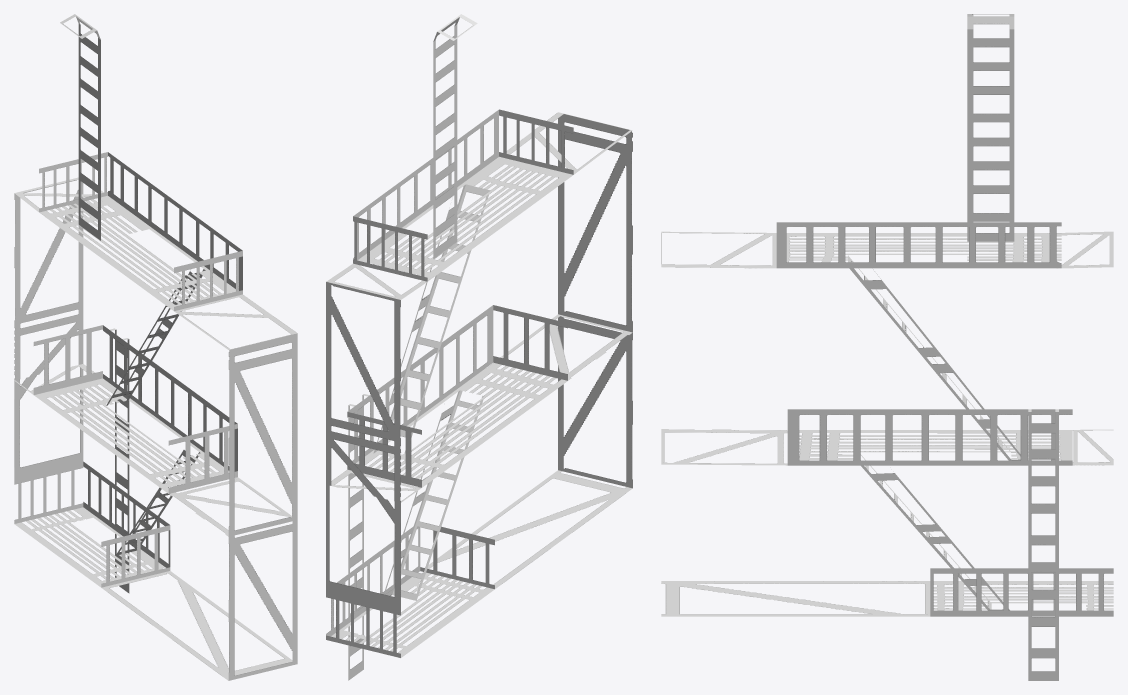
File: fire escape.fbx
The picture shows the model from 3 angles, left to right: view 1: azimuth 30°, elevation 25°; view 2: azimuth 150°, elevation 25°; view 3: azimuth 270°, elevation 25°; orthographic projection. The views are drawn at different scales.
Parts seen in each view (by area): view 1: fire escape.001; view 2: fire escape.001; view 3: fire escape.001.
Boxes of the visible parts, x1,y1,x2,y2 form: fire escape.001: (14, 14, 297, 680); fire escape.001: (326, 14, 632, 680); fire escape.001: (661, 14, 1113, 680).
Size of the model in its own units: 533 by 4001 by 2592.
